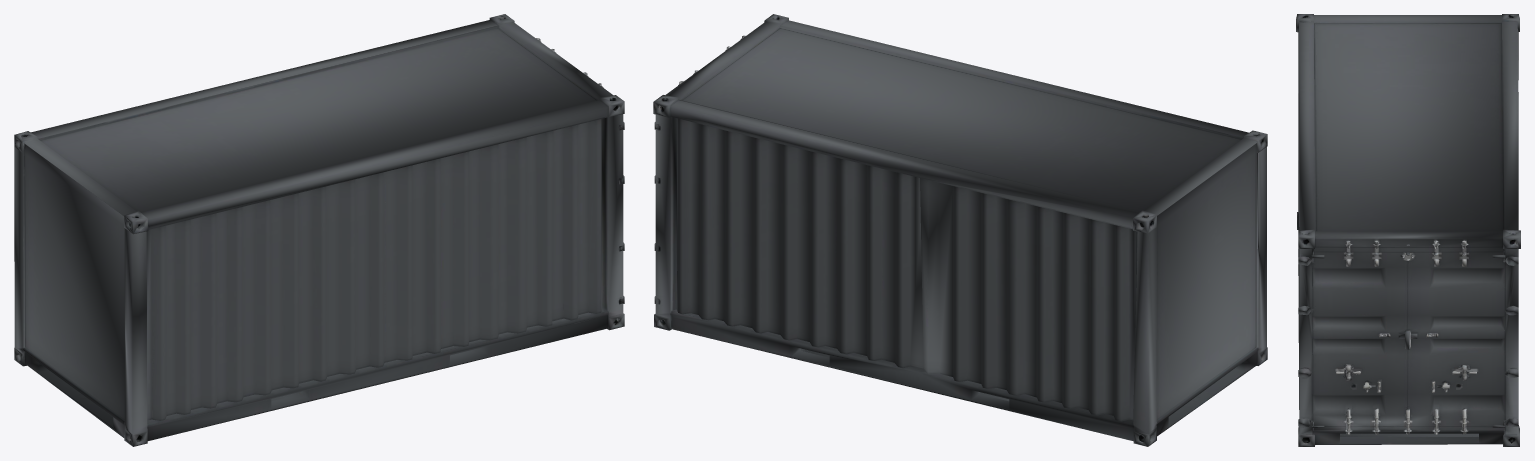
File: selected.glb
3 renders of one model, left to right at view 1: azimuth 30°, elevation 25°; view 2: azimuth 150°, elevation 25°; view 3: azimuth 270°, elevation 25°, orthographic. The views are drawn at different scales.
Visible parts, largest first — view 1: tripo_node_067512bc-2bb7-465c-8e2f-b453fb1e9933; view 2: tripo_node_067512bc-2bb7-465c-8e2f-b453fb1e9933; view 3: tripo_node_067512bc-2bb7-465c-8e2f-b453fb1e9933.
Part boxes in pixels (box(x1,y1,x2,y2)): tripo_node_067512bc-2bb7-465c-8e2f-b453fb1e9933: box(14, 14, 624, 446); tripo_node_067512bc-2bb7-465c-8e2f-b453fb1e9933: box(653, 14, 1267, 446); tripo_node_067512bc-2bb7-465c-8e2f-b453fb1e9933: box(1296, 14, 1520, 446).
Bounding box in the file's own units: 0.998 × 0.4355 × 0.4199.
Materials: 1 (1 with a texture image).
